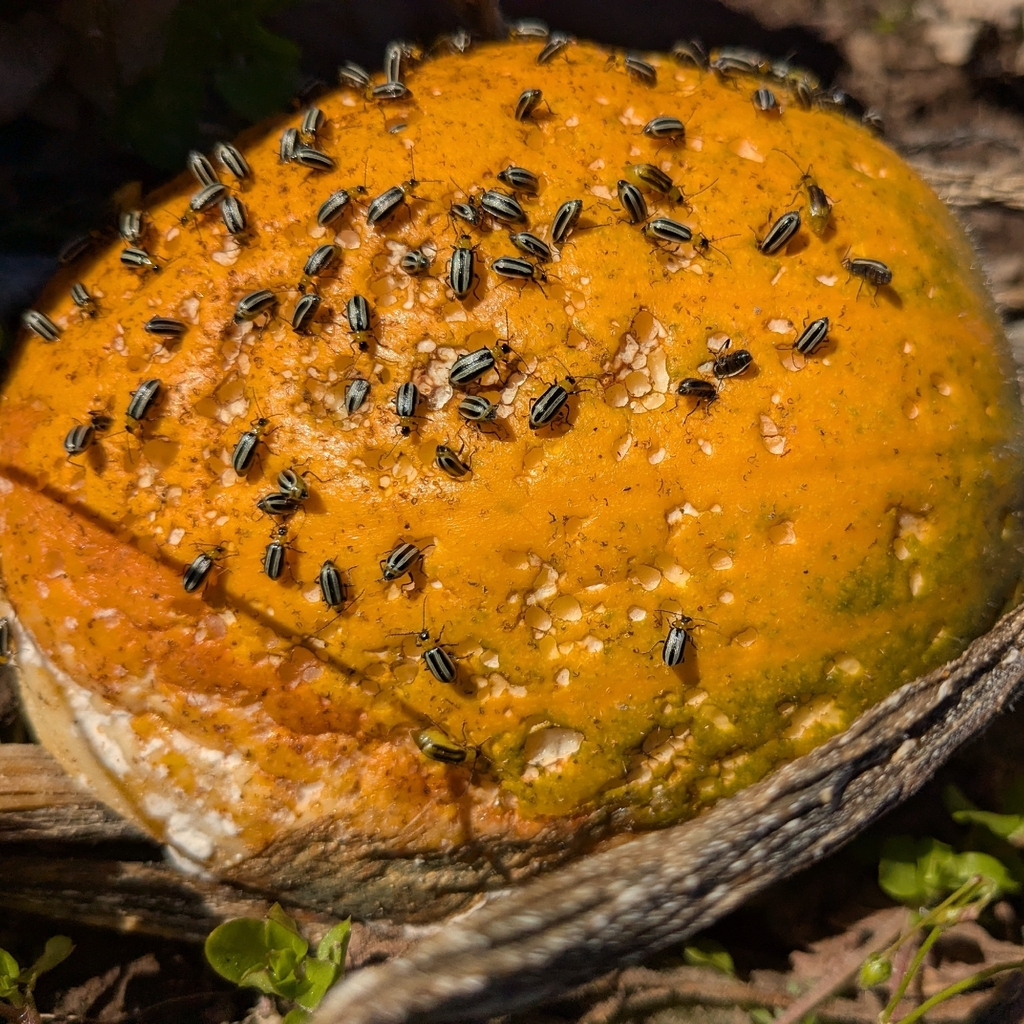potato_beetle: (629, 578, 730, 690), (160, 529, 242, 610), (213, 404, 284, 494), (657, 357, 738, 433), (428, 229, 493, 319), (330, 277, 393, 361), (304, 545, 362, 631), (421, 428, 486, 499), (377, 367, 438, 438)
